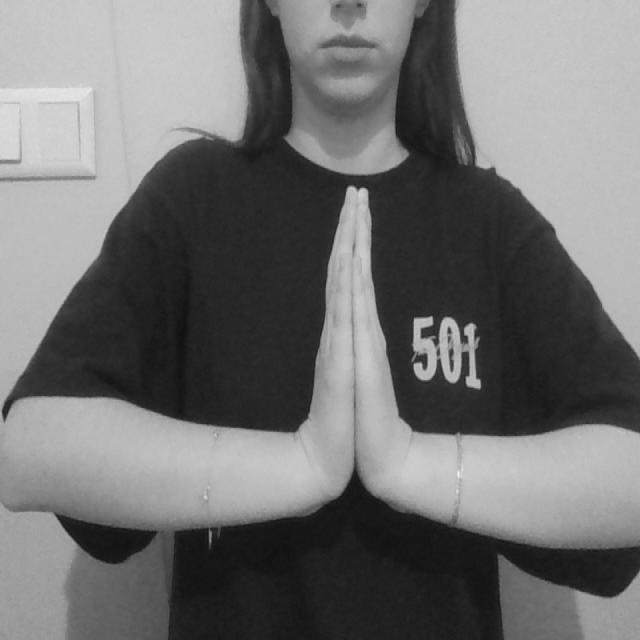Ozur-Dilemek: (288, 162, 414, 510)
